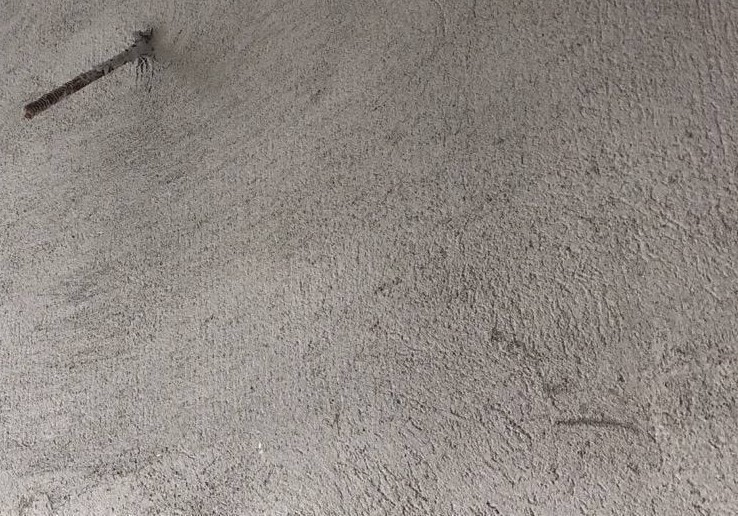Exposed reinforcement: (21, 27, 155, 121)
